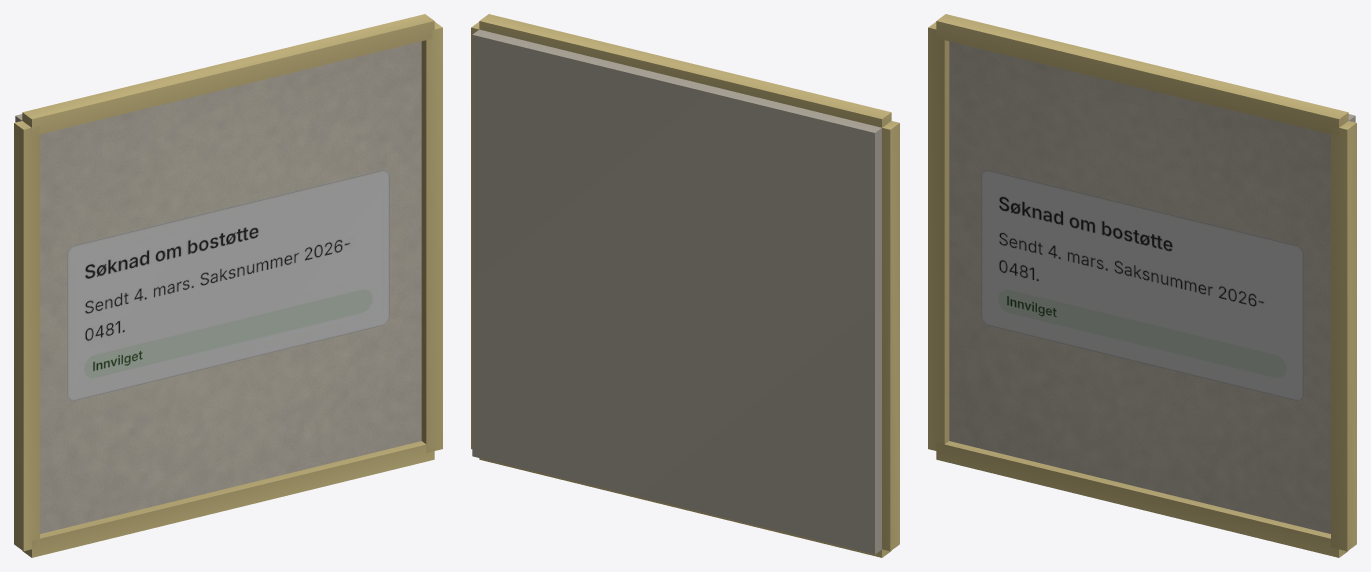
The model's file is gallery_card.glb.
3 renders of one model, left to right at view 1: azimuth 30°, elevation 25°; view 2: azimuth 150°, elevation 25°; view 3: azimuth 330°, elevation 25°, orthographic.
Parts seen in each view (by area): view 1: plate; view 2: plate; view 3: plate.
Boxes of the visible parts, box(x1,y1,x2,y2) form: plate: box(14, 14, 442, 557); plate: box(471, 14, 899, 557); plate: box(928, 14, 1356, 557).
Bounding box in the file's own units: 0.51 × 0.51 × 0.035.
2 materials, 1 textured.
